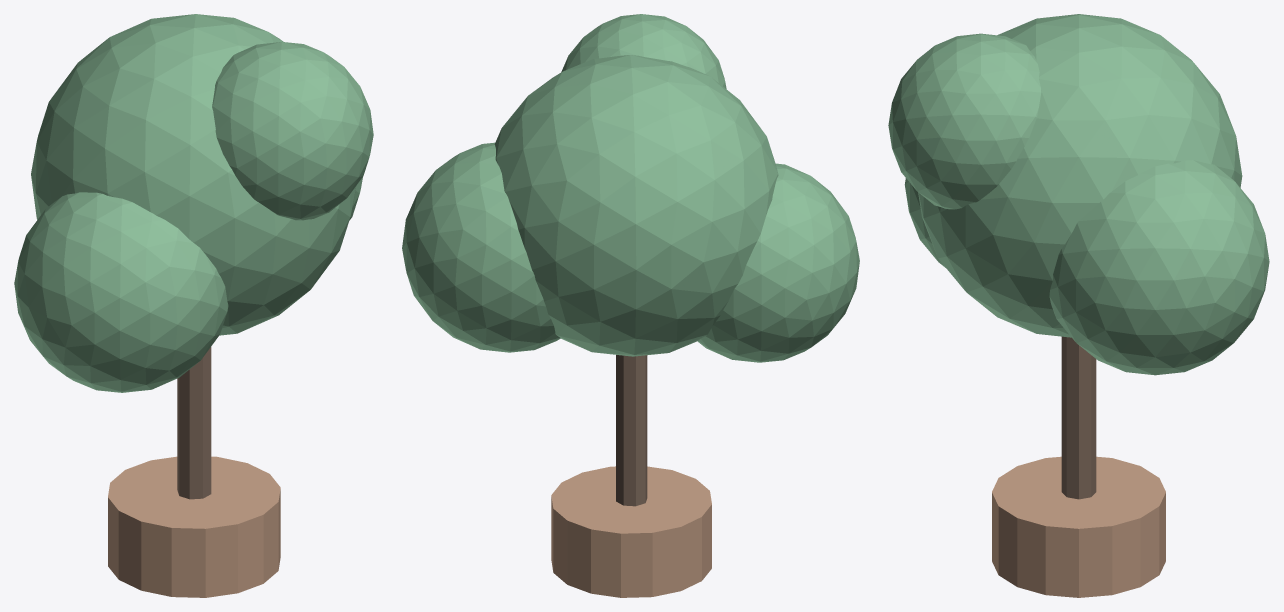
The model's file is plazatree.glb.
3 views of the same model, side by side, from view 1: azimuth 30°, elevation 25°; view 2: azimuth 150°, elevation 25°; view 3: azimuth 270°, elevation 25° (orthographic). The views are drawn at different scales.
Visible parts, largest first — view 1: leaves, pot, trunk; view 2: leaves, pot, trunk; view 3: leaves, pot, trunk.
Part boxes in pixels (bbox=[...]): leaves: bbox=[14, 14, 373, 392]; pot: bbox=[108, 456, 280, 597]; trunk: bbox=[177, 347, 211, 499]; leaves: bbox=[402, 14, 859, 362]; pot: bbox=[551, 466, 711, 597]; trunk: bbox=[616, 355, 647, 506]; leaves: bbox=[888, 14, 1269, 375]; pot: bbox=[992, 456, 1165, 597]; trunk: bbox=[1061, 336, 1096, 499].
Bounding box in the file's own units: 4.15 × 5.45 × 3.5.
